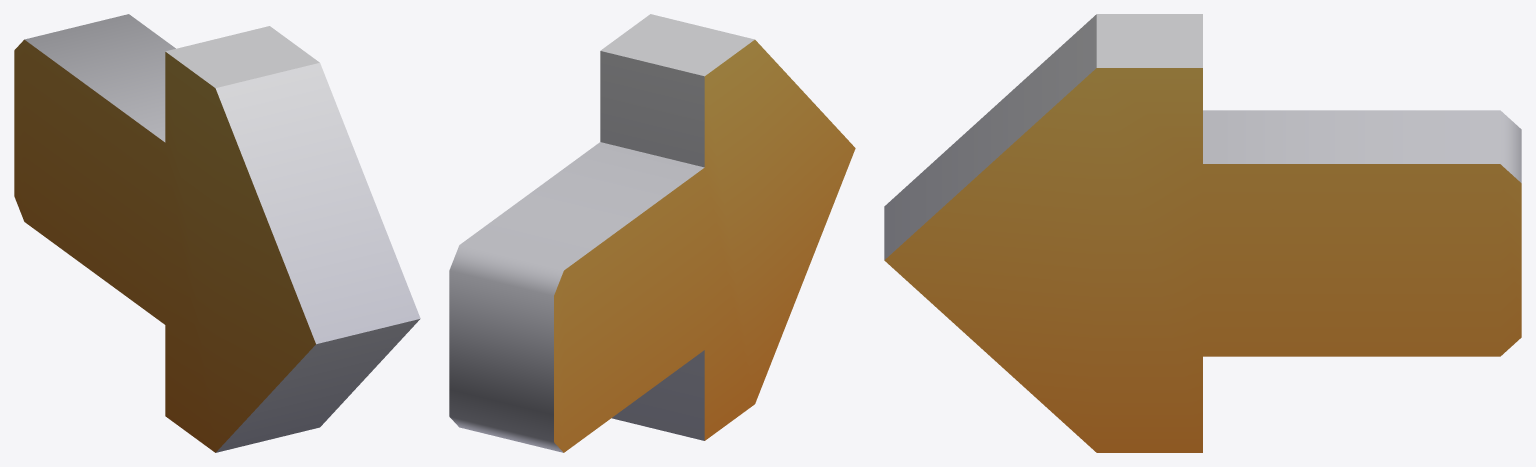
The model's file is arrow-standing.glb.
3 renders of one model, left to right at view 1: azimuth 30°, elevation 25°; view 2: azimuth 150°, elevation 25°; view 3: azimuth 270°, elevation 25°, orthographic. The views are drawn at different scales.
Parts seen in each view (by area): view 1: arrow-standing; view 2: arrow-standing; view 3: arrow-standing.
Part boxes in pixels (box(x1,y1,x2,y2)): arrow-standing: box(14, 14, 420, 452); arrow-standing: box(449, 14, 855, 452); arrow-standing: box(884, 14, 1521, 452).
Bounding box in the file's own units: 0.6 × 2 × 3.
